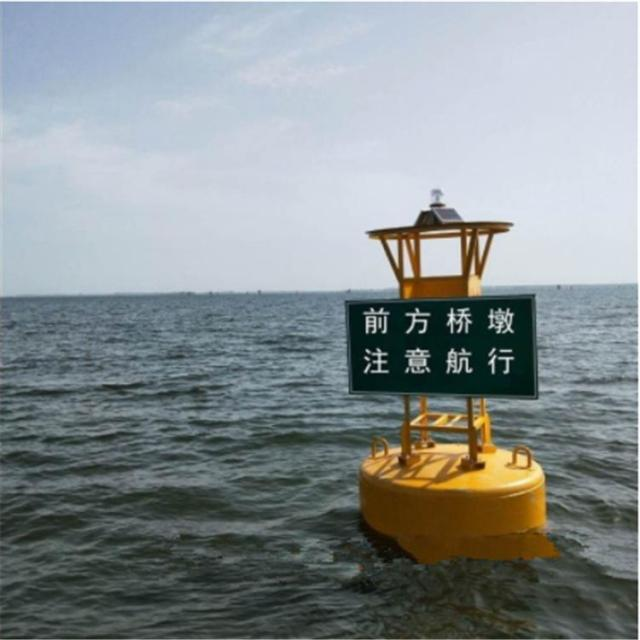buoy: (340, 187, 565, 537)
